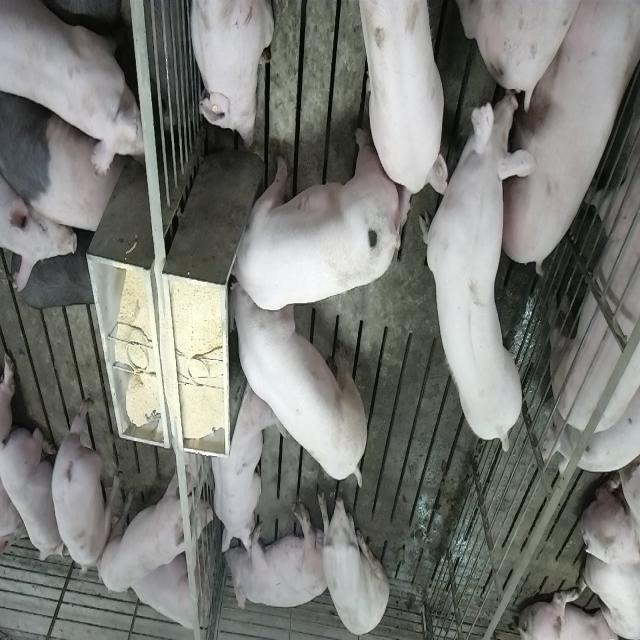Feeding: (220, 127, 400, 312), (230, 282, 372, 496)
Lateral_lying: (222, 502, 330, 614)
Sitting: (317, 488, 389, 636)
Standing: (548, 0, 640, 440), (421, 87, 529, 450), (2, 4, 142, 182), (1, 74, 124, 245), (352, 0, 446, 196), (97, 462, 215, 592), (49, 400, 111, 578)
Sternal_lying: (186, 0, 274, 150), (208, 377, 280, 556), (1, 422, 61, 572), (127, 546, 210, 636)
